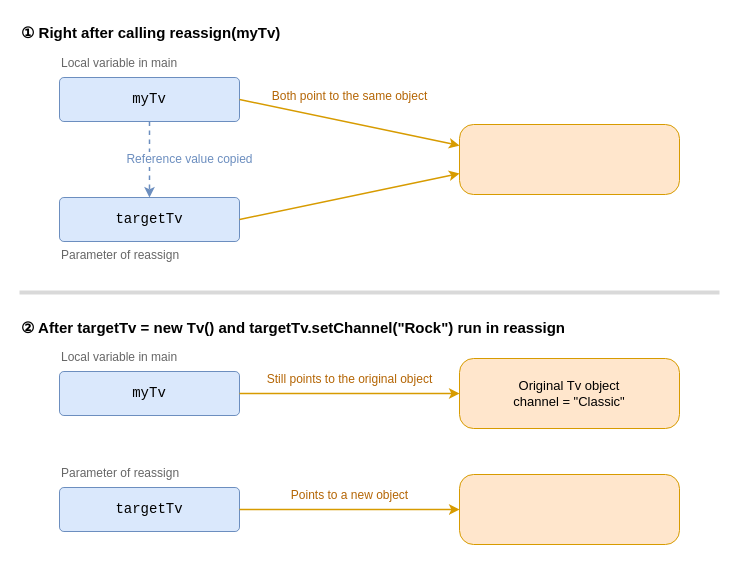
Some shapes in this 738 by 562 pixel diagram are drawn without their labels. Here are the shapes that lost their labels. From the top down, the centre of each, then its label:
the point at 569,159: Tv object channel = "Classic"
the point at 569,509: New Tv object channel = "Rock"
